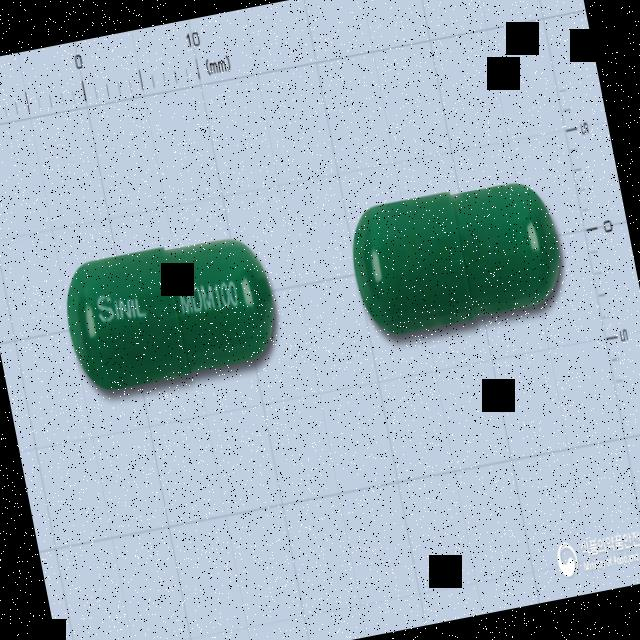Monodoxy-M Cap- Sinil: (57, 229, 286, 403)
